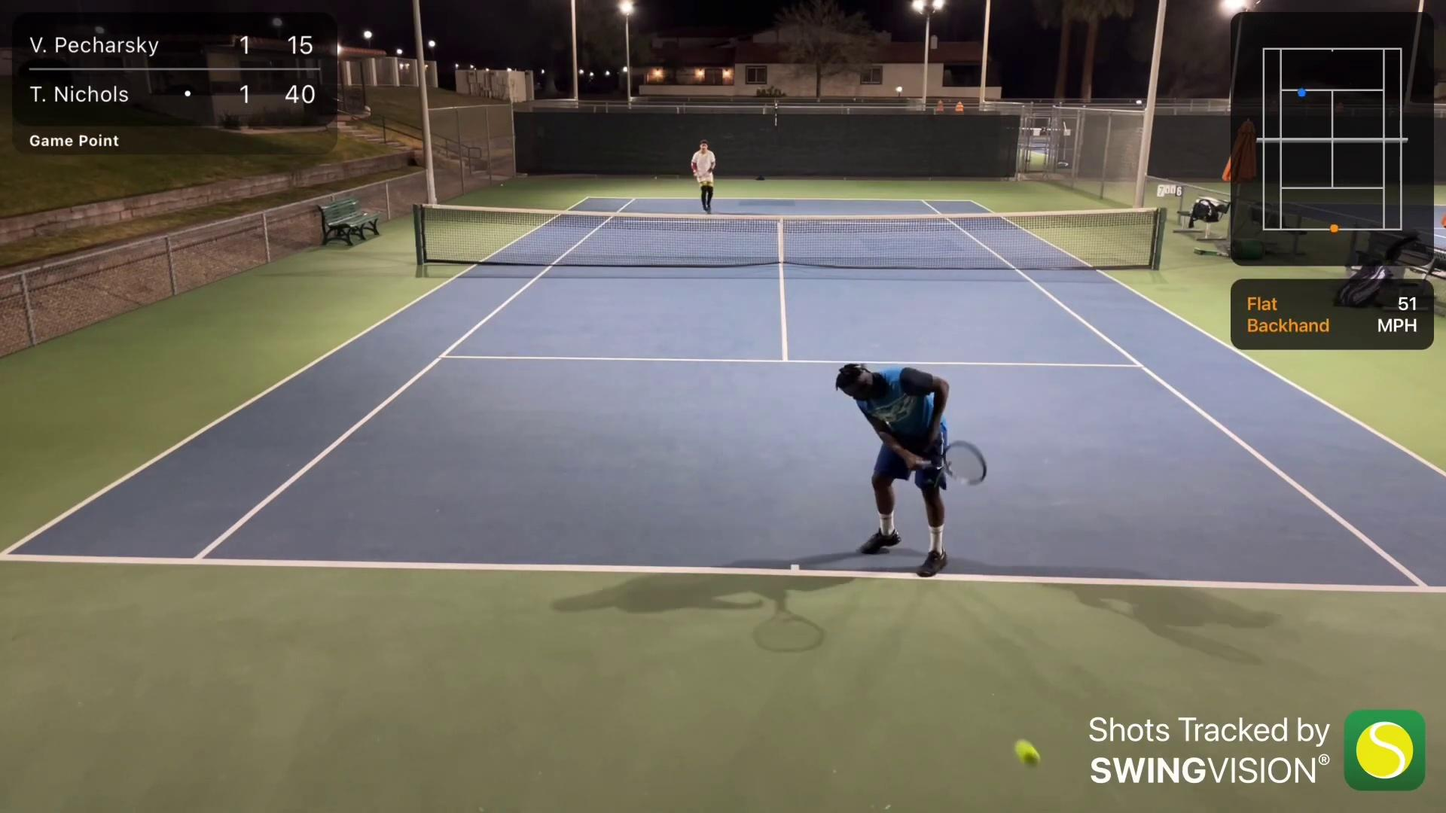ball: (1012, 737, 1042, 763)
